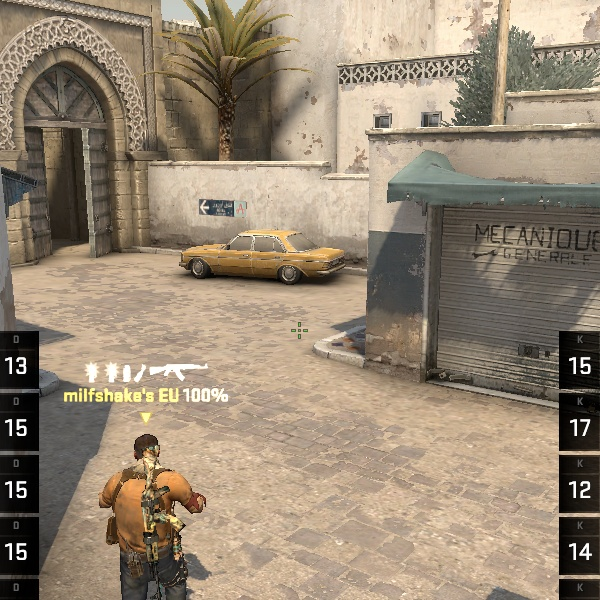t_body: (80, 423, 221, 600)
t_head: (121, 426, 171, 480)
